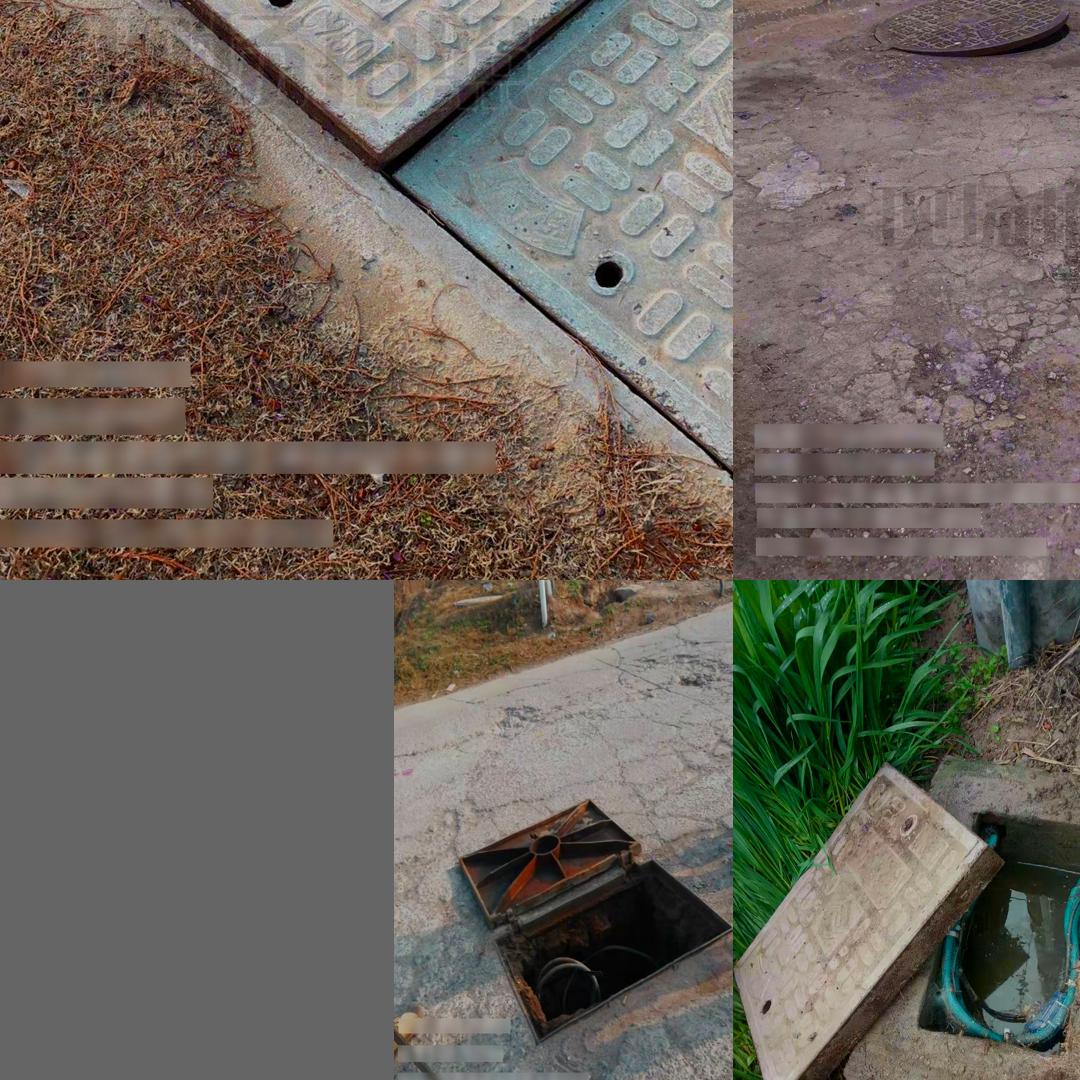uncovered: (74, 0, 733, 525), (733, 755, 1080, 1080), (464, 801, 733, 1046), (868, 0, 1069, 60)
